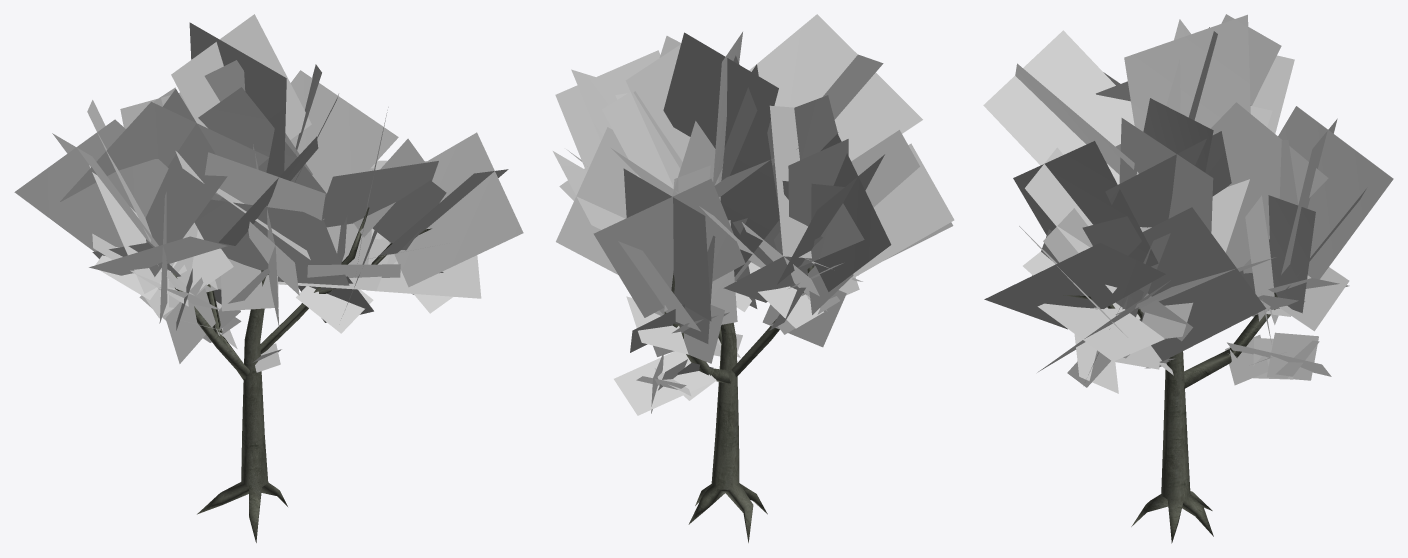
Rendered from Bleech_02.fbx.
3 views of the same model, side by side, from view 1: azimuth 30°, elevation 25°; view 2: azimuth 150°, elevation 25°; view 3: azimuth 270°, elevation 25° (orthographic). The views are drawn at different scales.
Parts seen in each view (by area): view 1: bleech_02; view 2: bleech_02; view 3: bleech_02.
Part boxes in pixels (x1,y1,x2,y2): bleech_02: [14, 14, 523, 542]; bleech_02: [553, 14, 954, 542]; bleech_02: [983, 14, 1393, 543].
Size of the model in its own units: 14.13 by 16.11 by 11.66.
